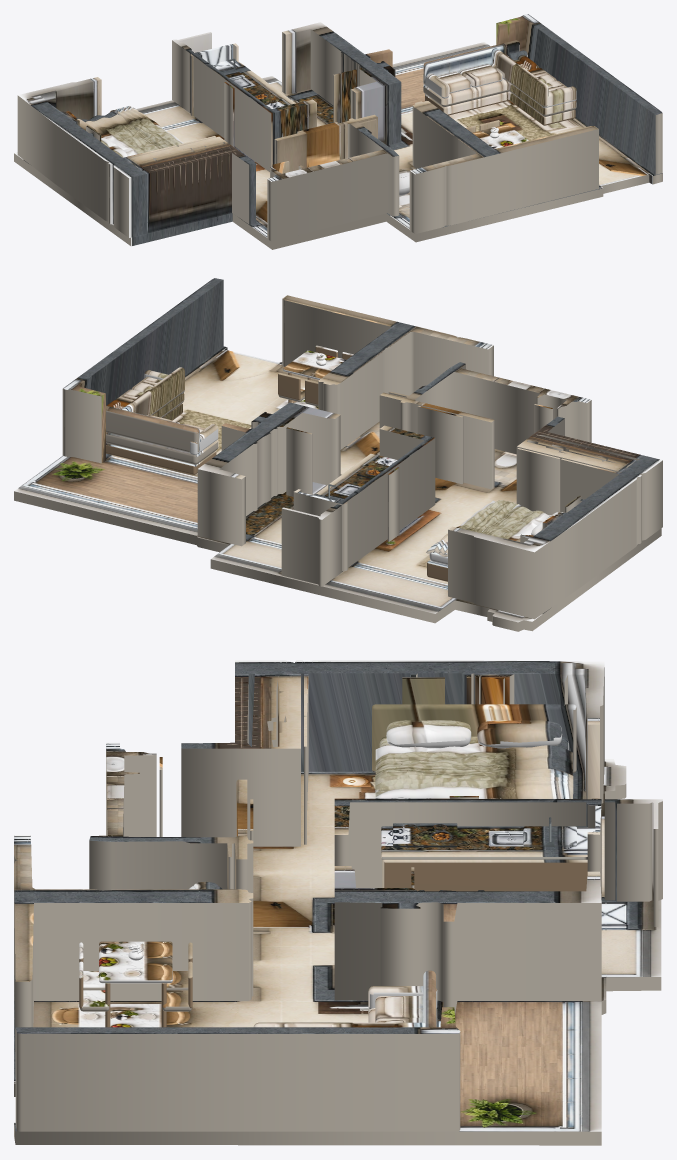
The model's file is p13-09-u03-0110-image-model.glb.
The picture shows the model from 3 angles, top to bottom: view 1: azimuth 30°, elevation 25°; view 2: azimuth 150°, elevation 25°; view 3: azimuth 270°, elevation 25°; orthographic projection. The views are drawn at different scales.
Visible parts, largest first — view 1: Partition walls, Apartment floor, Draped bed linen, Sofa back.001, Sofa back, Upholstered sofa frame.001, Draped bed linen.001, Stone worktop, Sofa plinth.001, Marble dining top, Seat cushion.004, Upholstered sofa frame (+4 smaller); view 2: Partition walls, Apartment floor, Sofa back.001, Draped bed linen, Sofa back, Upholstered sofa frame.001, Sofa plinth.001, Stone worktop, Draped bed linen.001, Marble dining top, Chair back.003; view 3: Partition walls, Apartment floor, Draped bed linen, Kitchen cabinets, Stone worktop, Upholstered headboard, Draped bed linen.001, Marble dining top, Tailored pillow, Tailored pillow.001, Inset cooktop, Seat cushion.003 (+4 smaller).
Part boxes in pixels (bbox=[...]): Partition walls: bbox=[17, 14, 662, 241]; Apartment floor: bbox=[14, 42, 662, 249]; Draped bed linen: bbox=[81, 107, 183, 156]; Sofa back.001: bbox=[423, 40, 519, 83]; Sofa back: bbox=[491, 48, 548, 106]; Upholstered sofa frame.001: bbox=[423, 79, 509, 106]; Draped bed linen.001: bbox=[110, 106, 180, 148]; Stone worktop: bbox=[211, 60, 295, 105]; Sofa plinth.001: bbox=[425, 91, 509, 115]; Marble dining top: bbox=[472, 124, 528, 148]; Seat cushion.004: bbox=[458, 63, 502, 87]; Upholstered sofa frame: bbox=[509, 82, 576, 116]; Partition walls: bbox=[62, 278, 662, 619]; Apartment floor: bbox=[14, 346, 661, 631]; Sofa back.001: bbox=[106, 405, 199, 452]; Draped bed linen: bbox=[426, 500, 551, 556]; Sofa back: bbox=[122, 367, 184, 415]; Upholstered sofa frame.001: bbox=[106, 432, 218, 464]; Sofa plinth.001: bbox=[106, 443, 216, 474]; Stone worktop: bbox=[314, 453, 397, 497]; Draped bed linen.001: bbox=[432, 500, 521, 554]; Marble dining top: bbox=[283, 350, 346, 379]; Chair back.003: bbox=[278, 373, 300, 400]; Partition walls: bbox=[14, 660, 662, 1131]; Apartment floor: bbox=[14, 759, 661, 1145]; Draped bed linen: bbox=[375, 745, 572, 798]; Kitchen cabinets: bbox=[382, 859, 587, 891]; Stone worktop: bbox=[381, 826, 595, 859]; Upholstered headboard: bbox=[372, 704, 576, 772]; Draped bed linen.001: bbox=[375, 768, 573, 793]; Marble dining top: bbox=[99, 941, 172, 983]; Tailored pillow: bbox=[386, 720, 471, 748]; Tailored pillow.001: bbox=[477, 720, 562, 748]; Inset cooktop: bbox=[393, 823, 457, 847]; Seat cushion.003: bbox=[375, 996, 423, 1021].
Size of the model in its own units: 9.33 by 1.3 by 6.85.
Materials: 13 (3 with a texture image).
